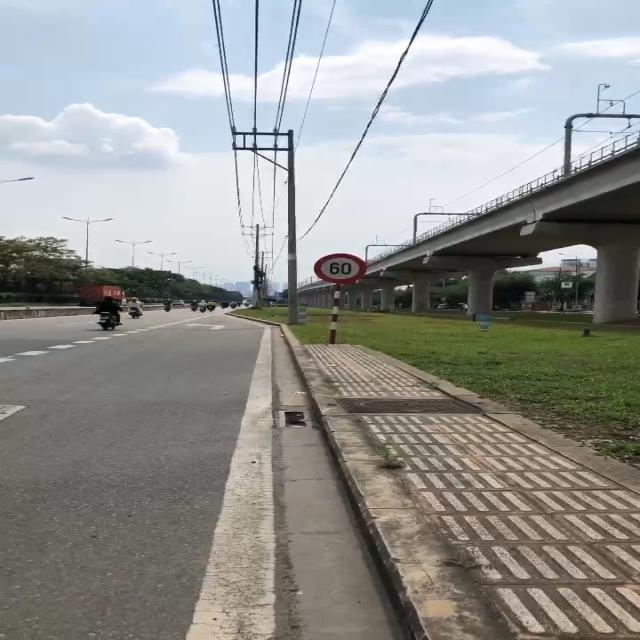Bien bao toc do toi da cho phep: (311, 252, 370, 286)
